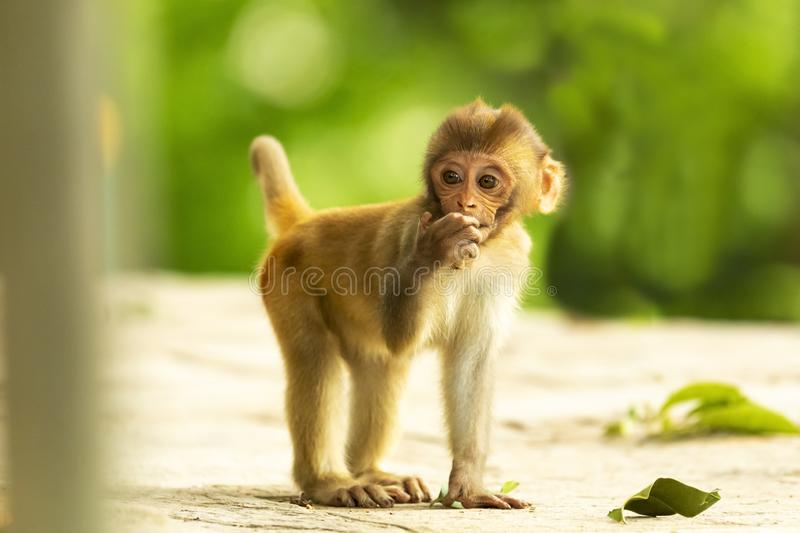monkey: (236, 95, 580, 507)
